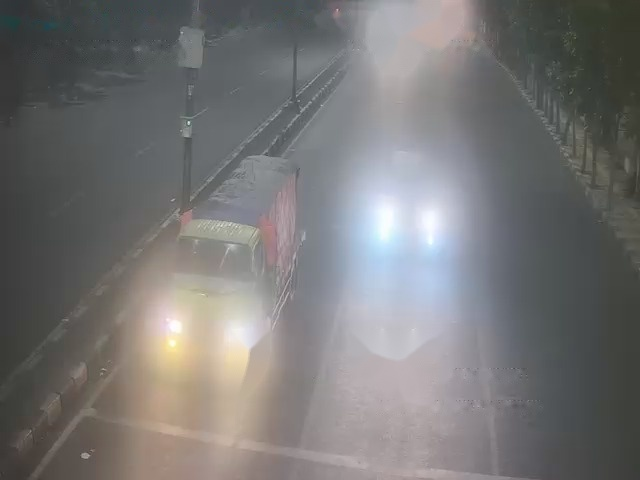Mobil: (374, 152, 442, 261)
Truk: (167, 153, 299, 367)
